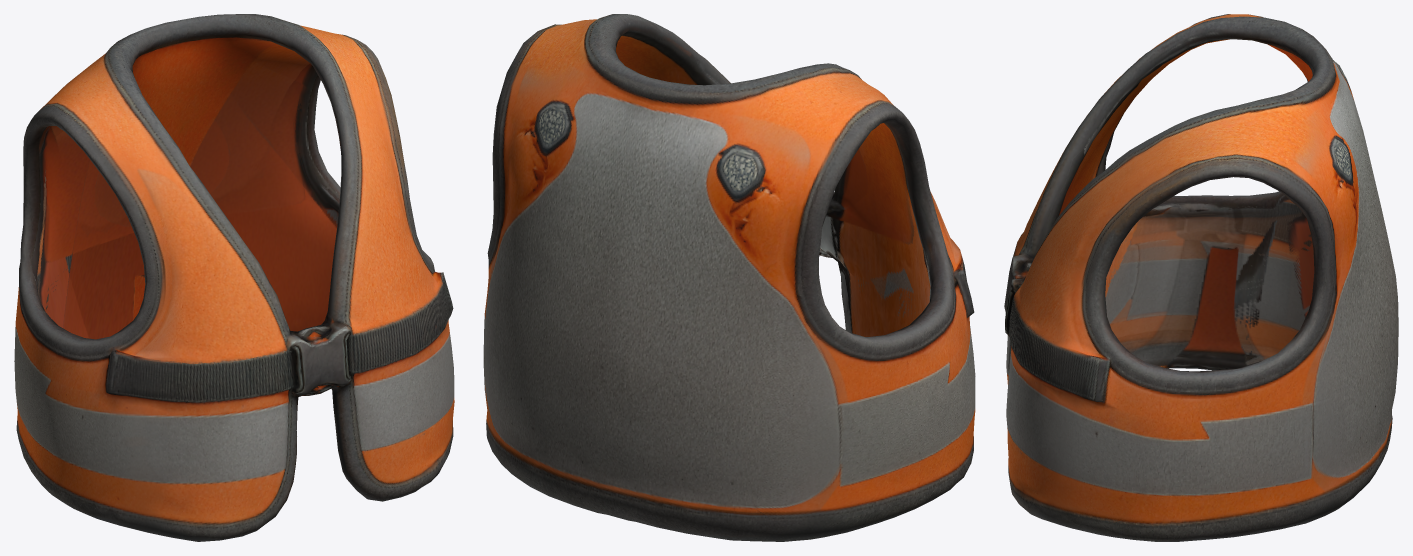
File: turtle_vest.glb
3 renders of one model, left to right at view 1: azimuth 30°, elevation 25°; view 2: azimuth 150°, elevation 25°; view 3: azimuth 270°, elevation 25°, orthographic. The views are drawn at different scales.
Parts seen in each view (by area): view 1: texture_mapping; view 2: texture_mapping; view 3: texture_mapping.
Part boxes in pixels (x1,y1,x2,y2): texture_mapping: [14, 14, 454, 541]; texture_mapping: [483, 14, 975, 541]; texture_mapping: [1004, 14, 1398, 541].
Bounding box in the file's own units: 1 × 0.9775 × 0.8667.
1 material, 1 textured.
